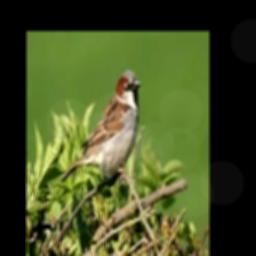Sparrow: (59, 69, 140, 184)
